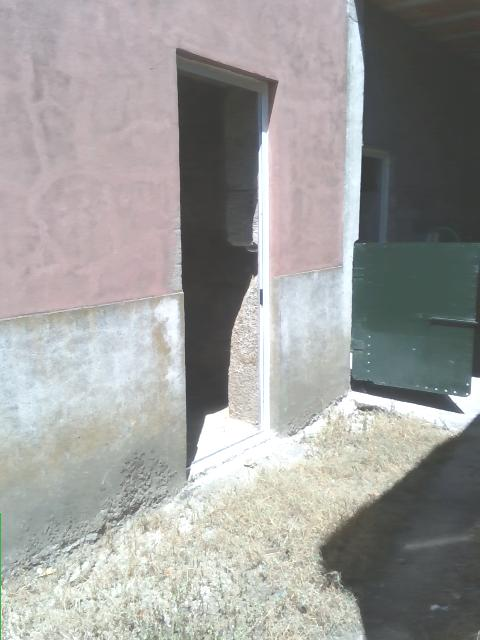open_door: (174, 44, 279, 474)
